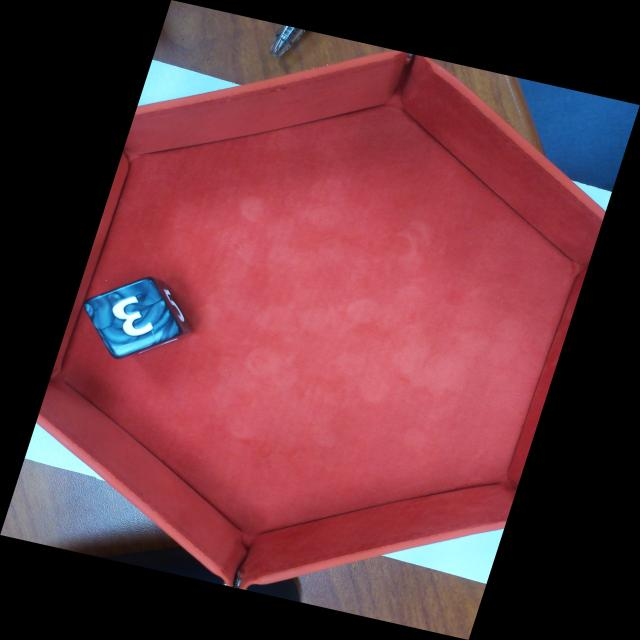dice: (80, 276, 184, 362)
